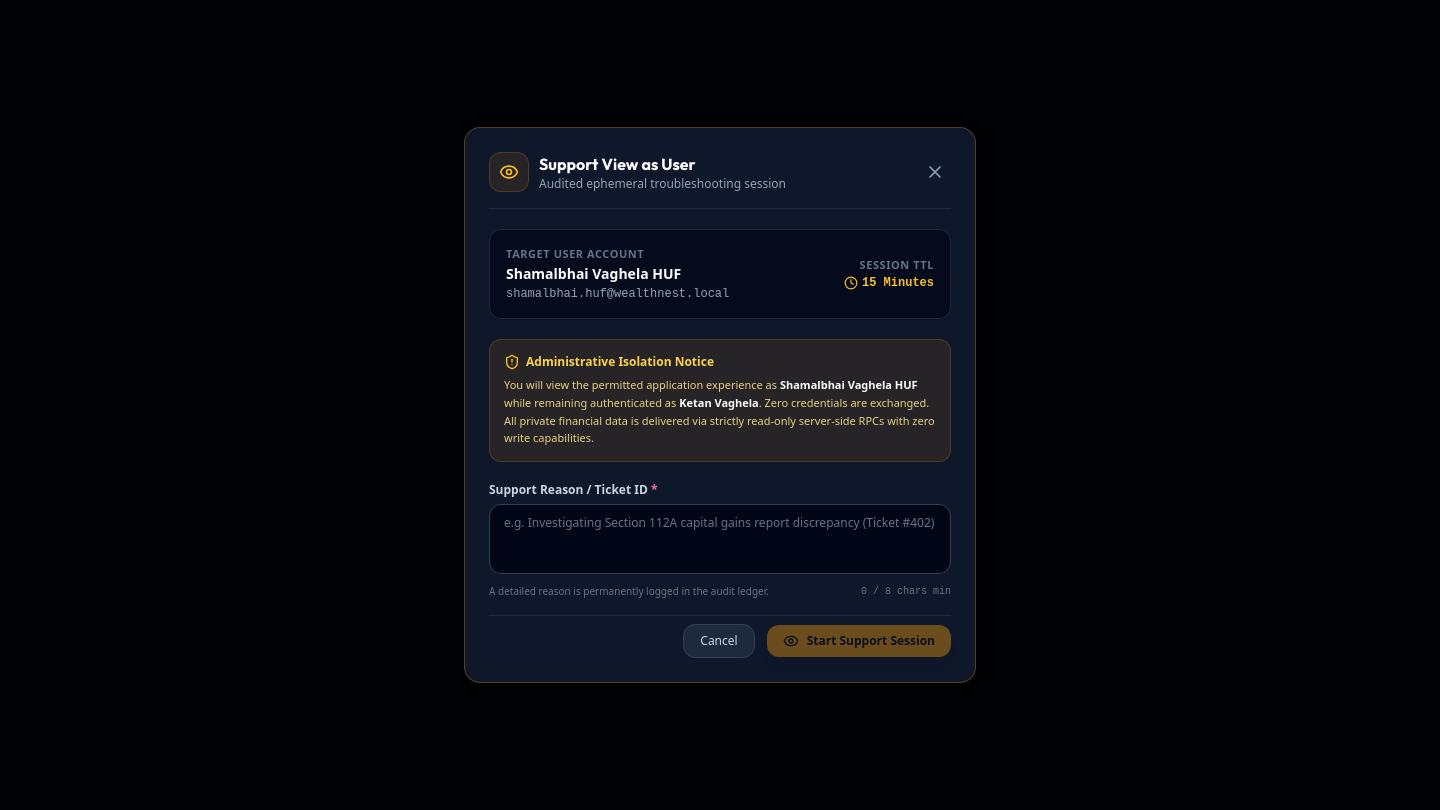
Test case: Phase 8: Secure Admin View-as-User / Support Impersonation Mode › ViewAsUserModal Component › disables submit button until reason reaches minimum 8 characters
Expected: the button "Start Support Session" is disabled, [767,625,951,657]
Replace the text in the text box with placeholder "Investigating Section 112A" with "Fix" at [720, 539], box [489,504,951,574]
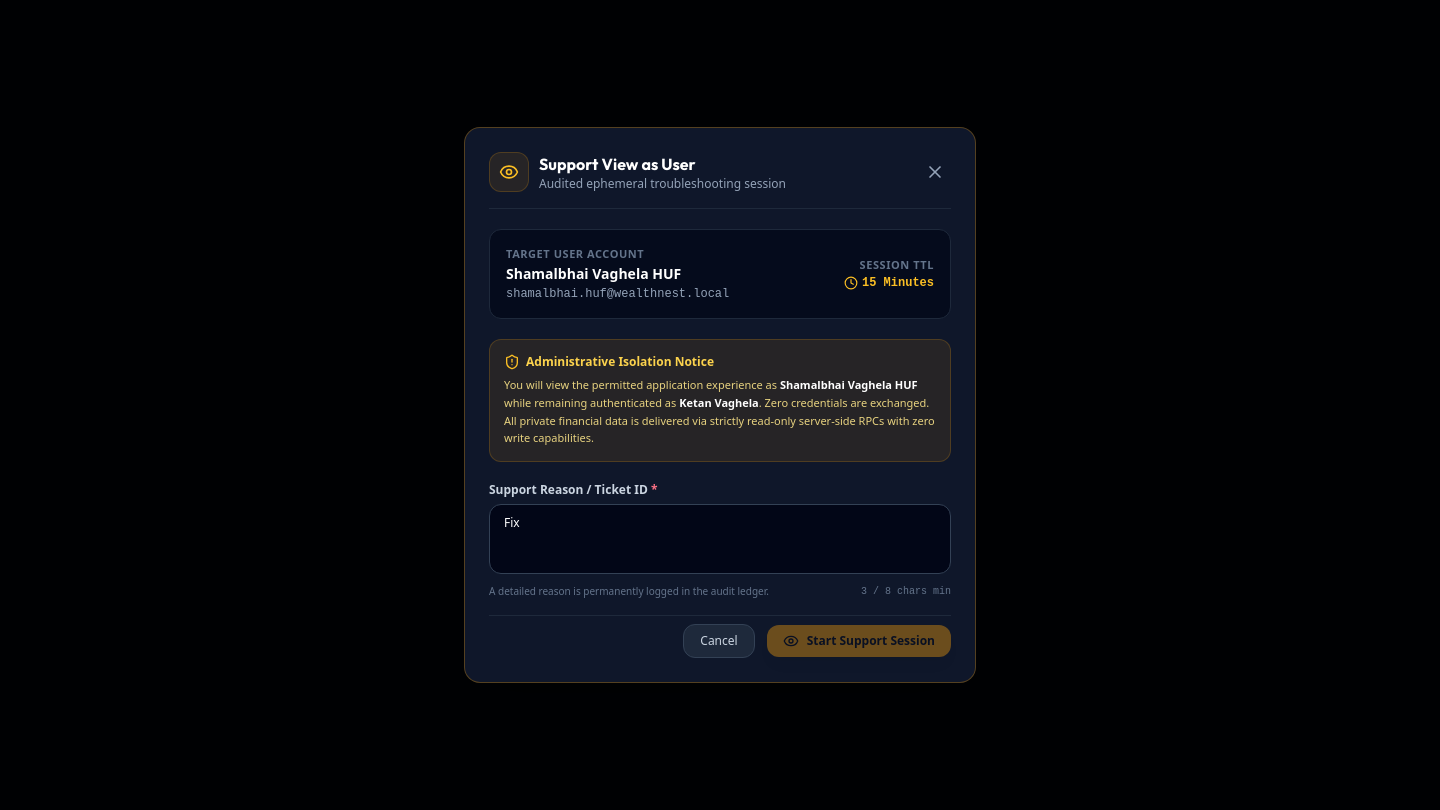
Expected: the button "Start Support Session" is disabled, [767,625,951,657]
Replace the text in the text box with placeholder "Investigating Section 112A" with "Investigating Section 112A tax report discrepancy" at [720, 539], box [489,504,951,574]
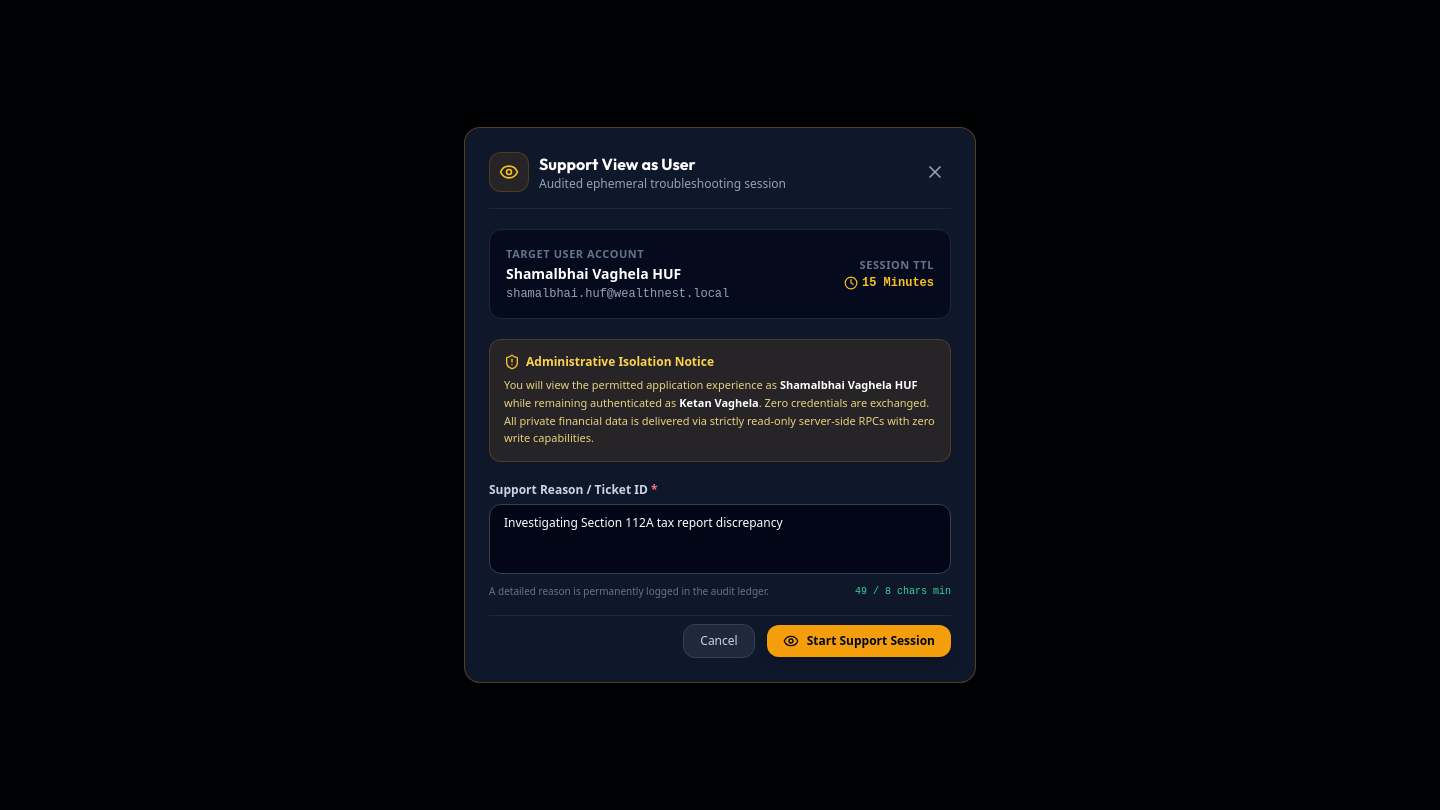
Result: the button "Start Support Session" is enabled at [767,625,951,657]
